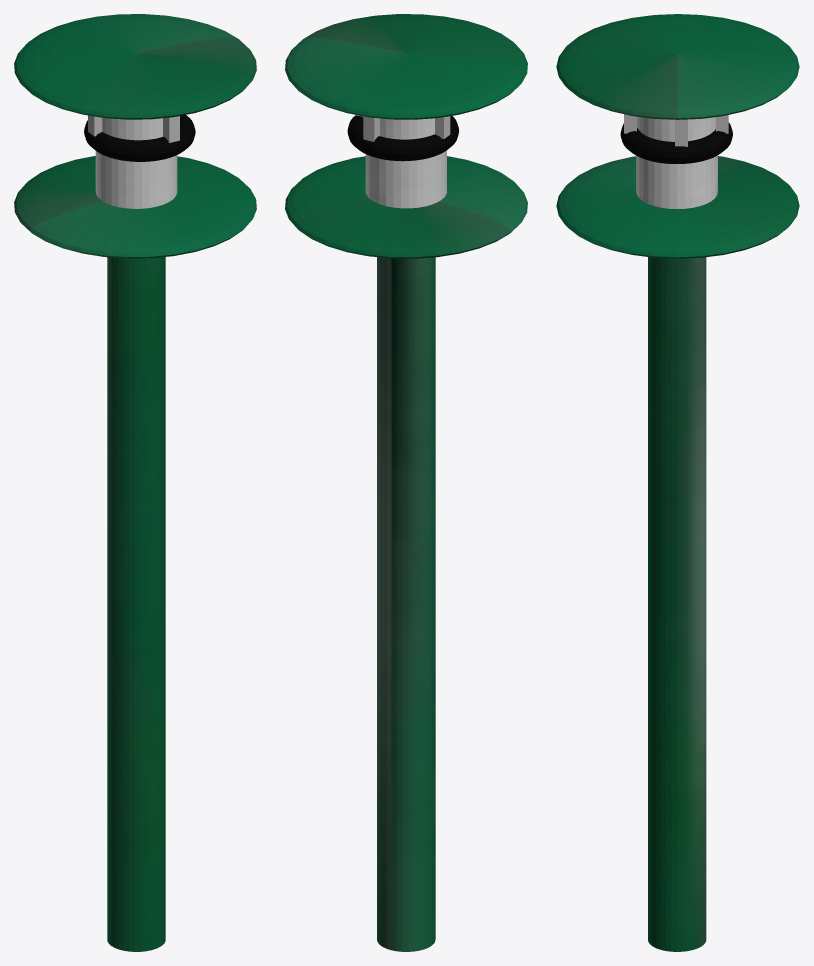
Rendered from lampara.obj.
The picture shows the model from 3 angles, left to right: view 1: azimuth 30°, elevation 25°; view 2: azimuth 150°, elevation 25°; view 3: azimuth 270°, elevation 25°; orthographic projection.
Parts seen in each view (by area): view 1: Cubo.007_Material.001, Cubo.007_Material.004, Cubo.007_Material.002, Cubo.007_Material.003, Cubo.007_Material.005; view 2: Cubo.007_Material.001, Cubo.007_Material.004, Cubo.007_Material.002, Cubo.007_Material.003, Cubo.007_Material.005; view 3: Cubo.007_Material.001, Cubo.007_Material.004, Cubo.007_Material.002, Cubo.007_Material.003, Cubo.007_Material.005.
Part boxes in pixels (x1,y1,x2,y2): Cubo.007_Material.001: (107, 257, 165, 951); Cubo.007_Material.004: (14, 14, 256, 258); Cubo.007_Material.002: (95, 117, 177, 208); Cubo.007_Material.003: (84, 115, 195, 161); Cubo.007_Material.005: (88, 115, 179, 142); Cubo.007_Material.001: (377, 257, 435, 951); Cubo.007_Material.004: (285, 14, 527, 258); Cubo.007_Material.002: (365, 118, 446, 208); Cubo.007_Material.003: (347, 116, 458, 161); Cubo.007_Material.005: (355, 114, 450, 141); Cubo.007_Material.001: (648, 257, 706, 951); Cubo.007_Material.004: (556, 14, 799, 258); Cubo.007_Material.002: (636, 116, 717, 208); Cubo.007_Material.003: (620, 122, 732, 163); Cubo.007_Material.005: (624, 114, 728, 146).
Size of the model in its own units: 0.8048 by 3.23 by 0.8048.
